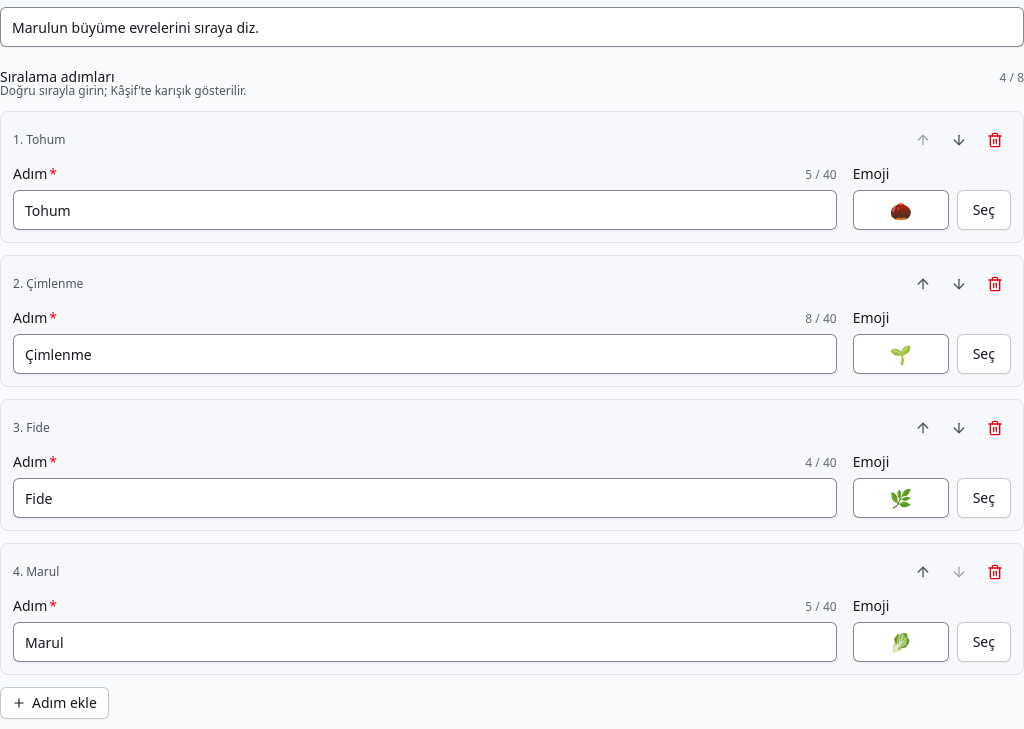
it: BlockFieldsEditor › sequence: adds items with fresh ids up to the schema maximum (8)
This screenshot has width=1024, height=729.
Click the button "Adım ekle" at (54, 703), box [0,687,109,719]
(page scrolled)
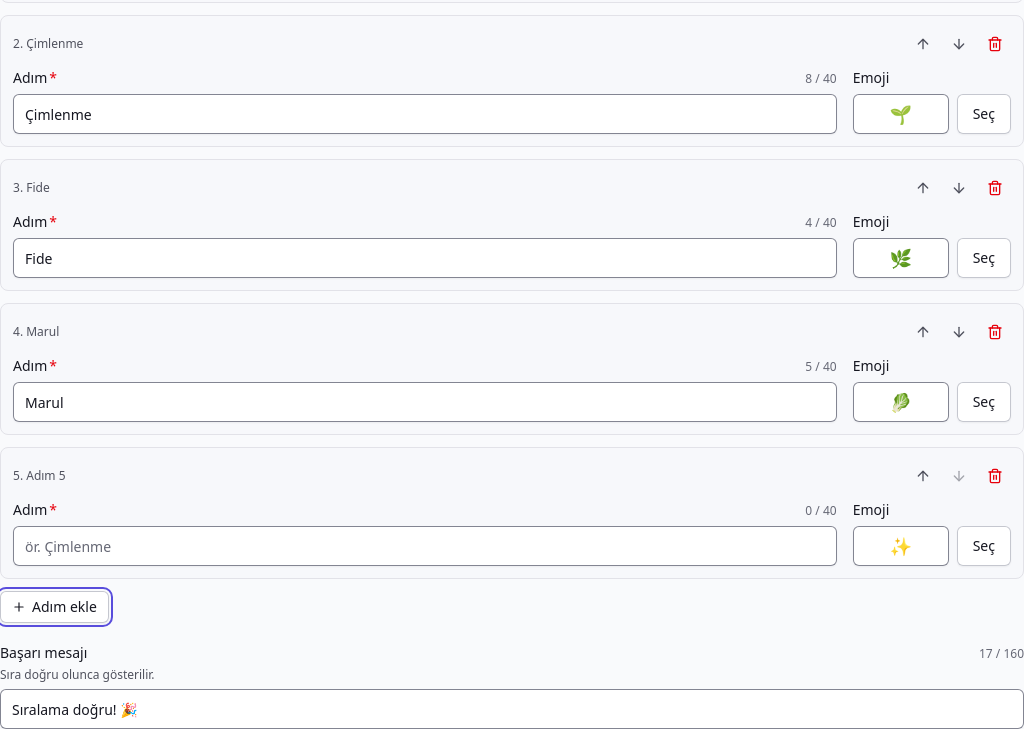
Click the button "Adım ekle" at (54, 607), box [0,591,109,623]
(page scrolled)
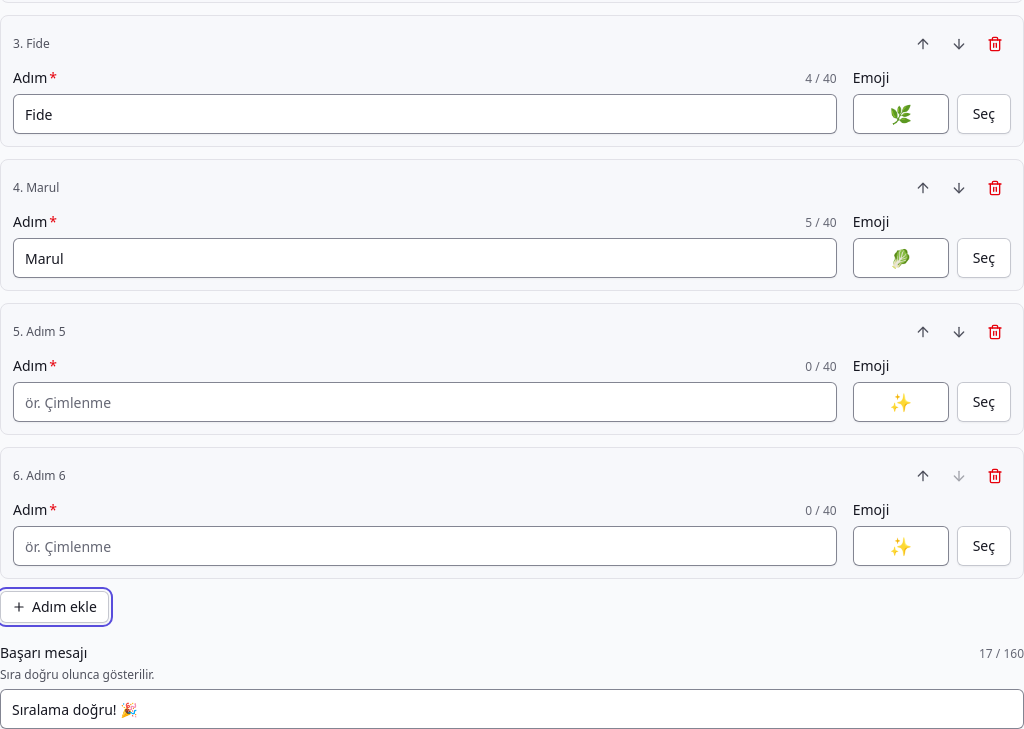
Click the button "Adım ekle" at (54, 607), box [0,591,109,623]
(page scrolled)
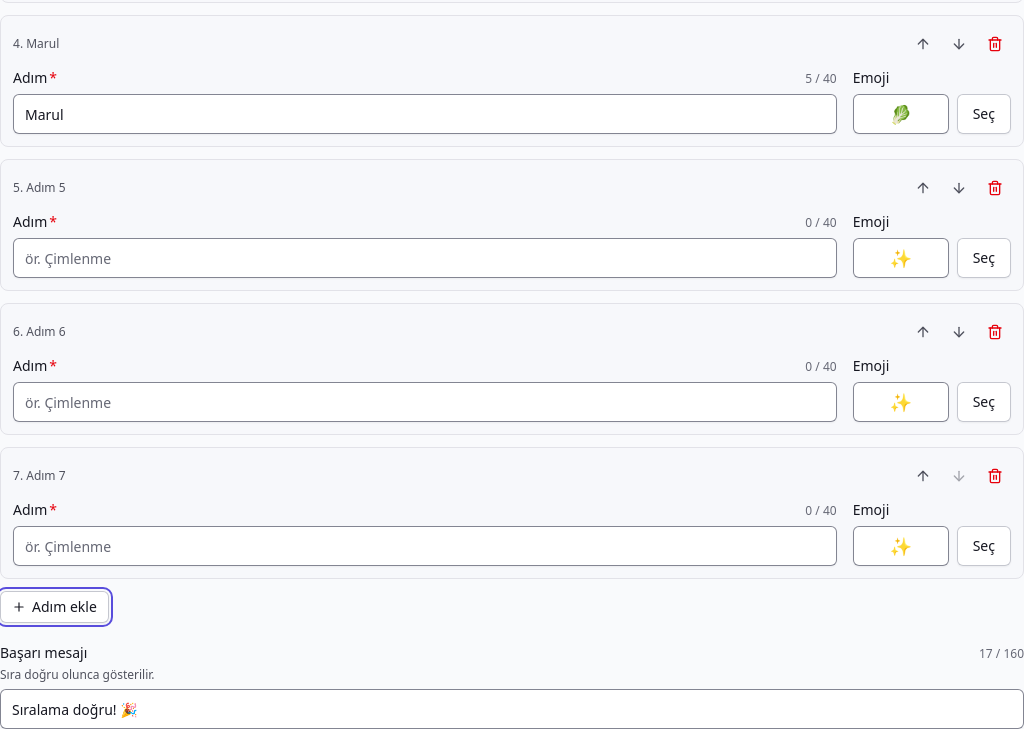
Click the button "Adım ekle" at (54, 607), box [0,591,109,623]
(page scrolled)
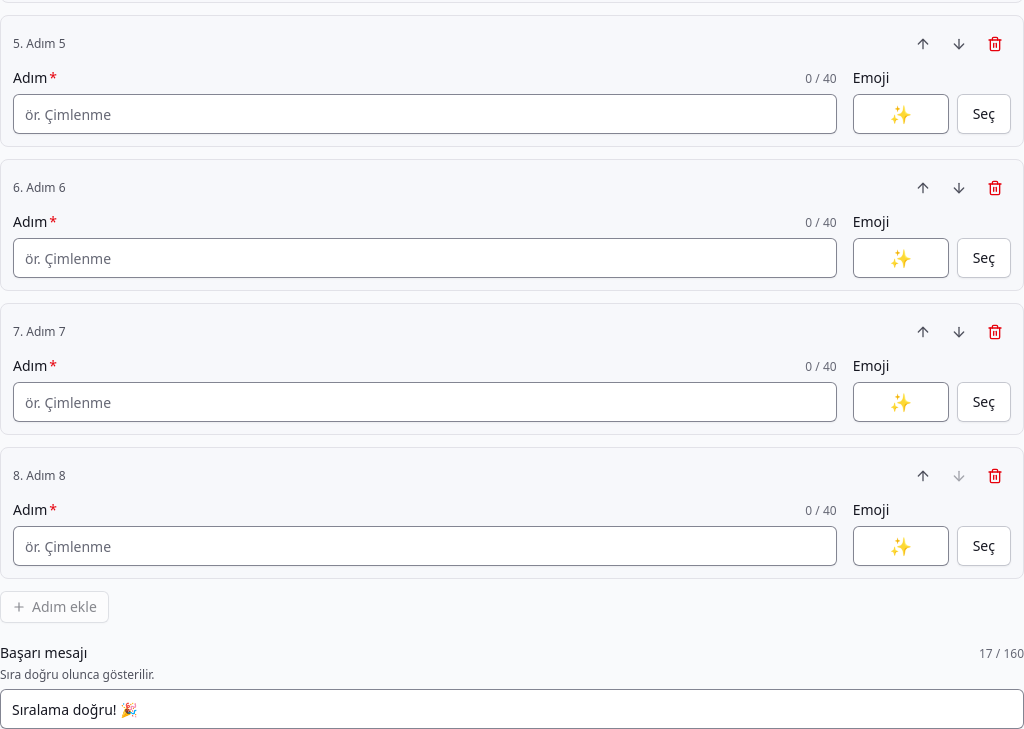
Now the button "Adım ekle" is disabled, box [0,591,109,623]
